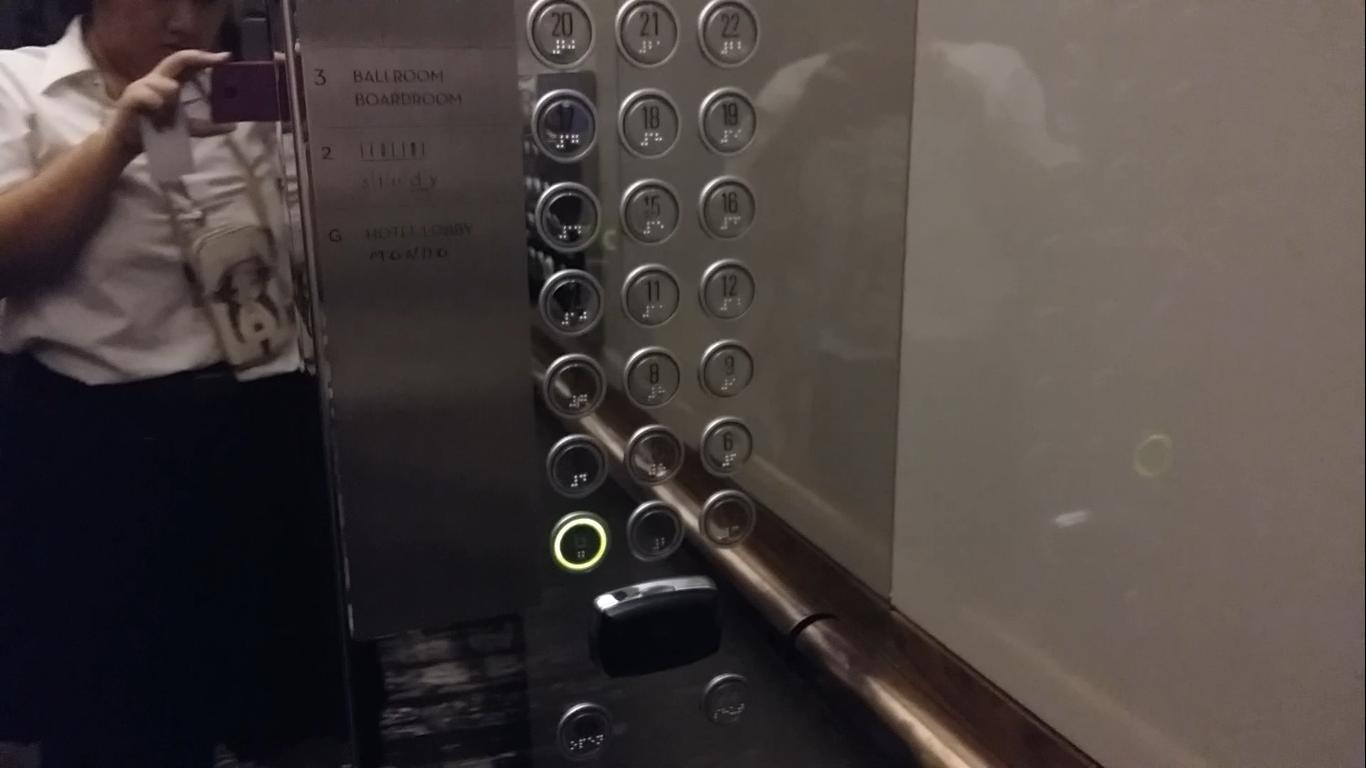11: (619, 261, 685, 331)
12: (696, 256, 758, 323)
15: (616, 174, 685, 248)
16: (693, 173, 763, 244)
17: (530, 88, 599, 162)
18: (615, 87, 684, 161)
19: (694, 85, 763, 159)
20: (526, 1, 597, 70)
21: (613, 1, 684, 69)
22: (693, 1, 762, 68)
5: (622, 424, 685, 490)
6: (697, 414, 757, 476)
8: (620, 344, 683, 410)
9: (695, 336, 758, 402)
G: (550, 509, 610, 571)
blur: (533, 180, 602, 254), (538, 267, 604, 337), (543, 352, 606, 418), (545, 433, 608, 499), (623, 497, 686, 563), (695, 487, 758, 550), (553, 700, 616, 763), (698, 671, 757, 725)
